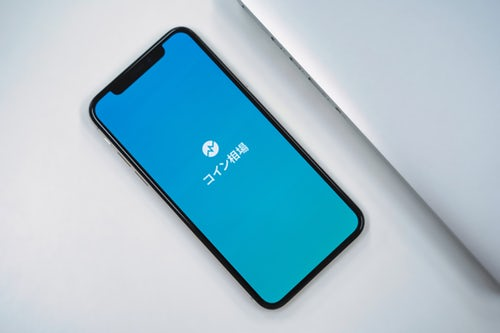phone: (88, 25, 367, 310)
